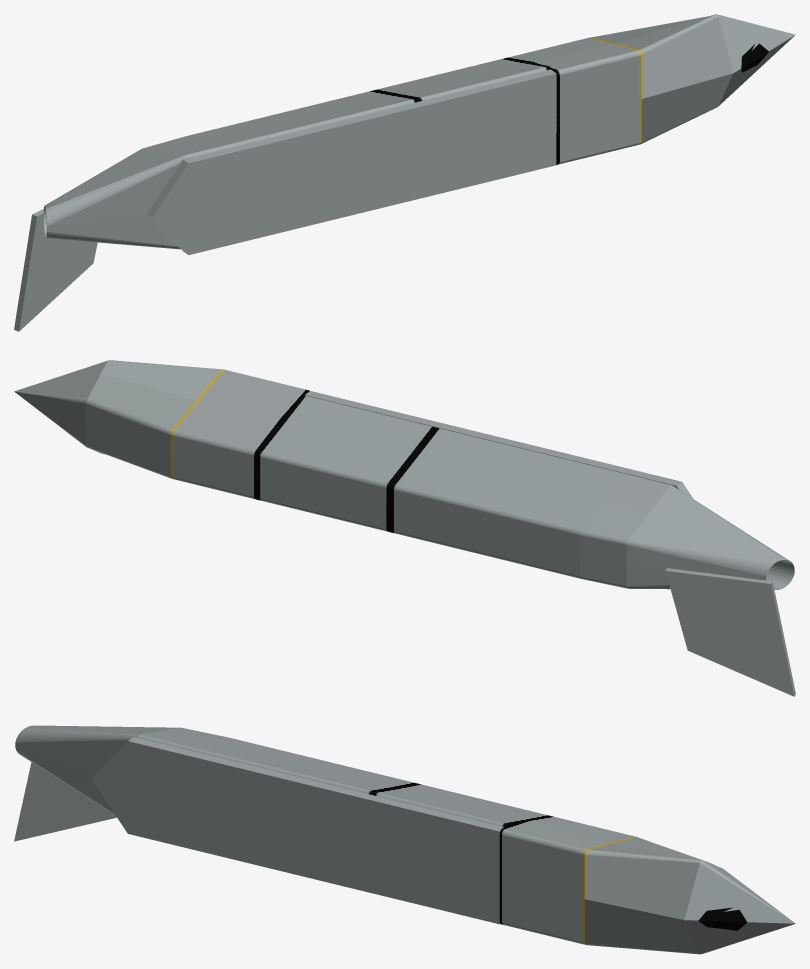
File: b2aagm1589.glb
The picture shows the model from 3 angles, top to bottom: view 1: azimuth 30°, elevation 25°; view 2: azimuth 150°, elevation 25°; view 3: azimuth 330°, elevation 25°; orthographic projection.
Parts seen in each view (by area): view 1: 立方体.005; view 2: 立方体.005; view 3: 立方体.005.
Part boxes in pixels (x1,y1,x2,y2): 立方体.005: [14, 14, 795, 331]; 立方体.005: [14, 360, 795, 696]; 立方体.005: [14, 725, 795, 954].
Bounding box in the file's own units: 5.42 × 1.04 × 0.647.
4 materials, 1 textured.
